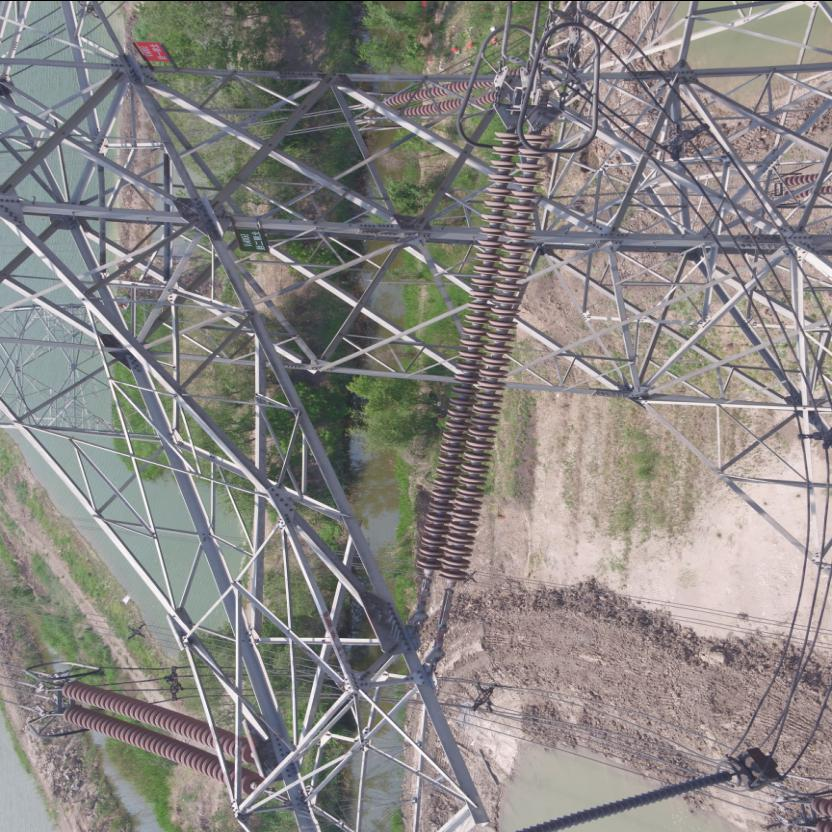insulator: (410, 118, 554, 609), (54, 672, 265, 798)
